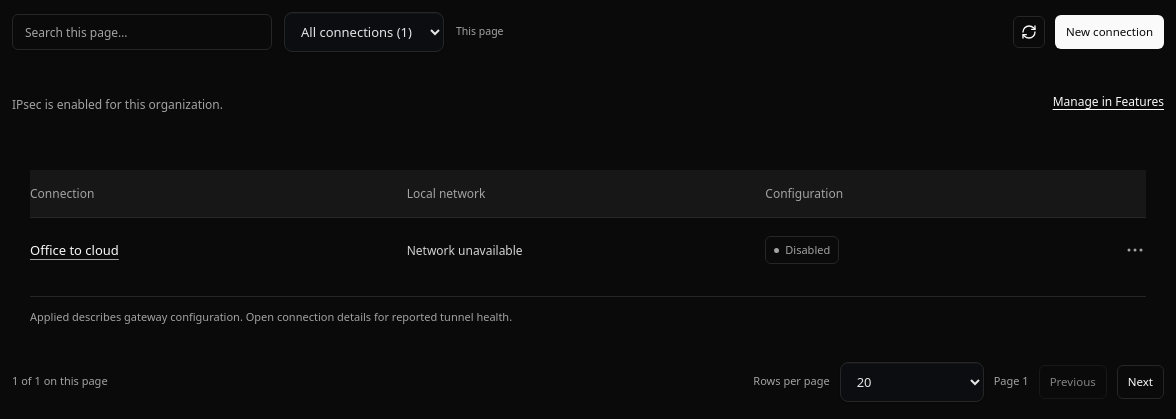
Test: uses the server cursor to replace the page and deduplicates records within its response
This screenshot has width=1176, height=419.
What coordinates should you click on to do the following:
click the button with aria-label "Next connections"
I would click on:
 (1140, 382)
Its box is [1117,365,1164,399].
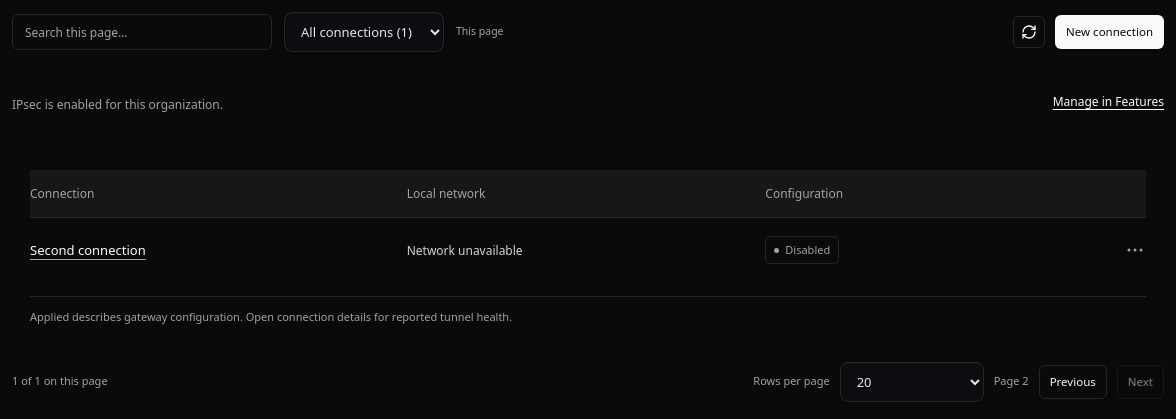
Expected: the button "Second connection" is shown, [30,240,146,261]
Expected: the button "Office to cloud" is gone
Expected: the button with aria-label "Next connections" is disabled, [1117,365,1164,399]
What coordinates should you click on to do the following:
click the button with aria-label "Previous connections"
I would click on:
 (1073, 382)
Its box is [1039,365,1107,399].
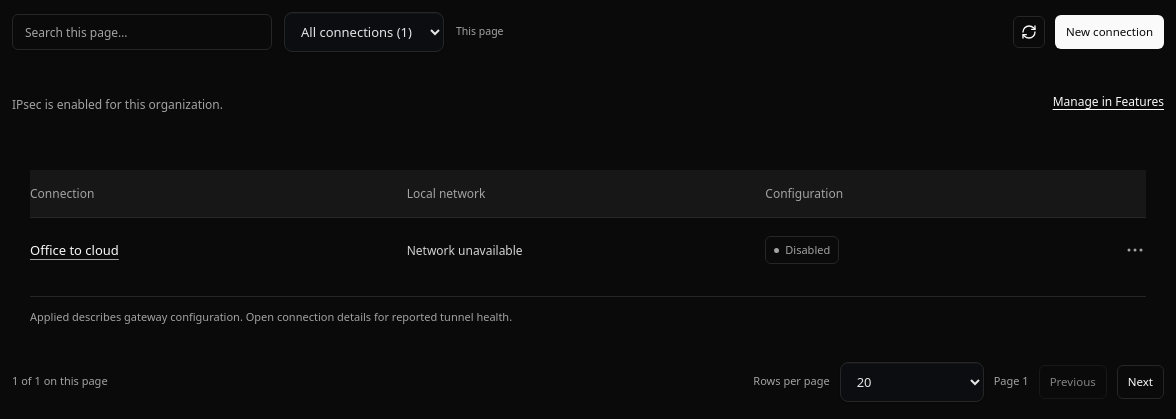
Expected: the button "Office to cloud" is shown, [30,240,119,261]
Expected: the button "Second connection" is gone
